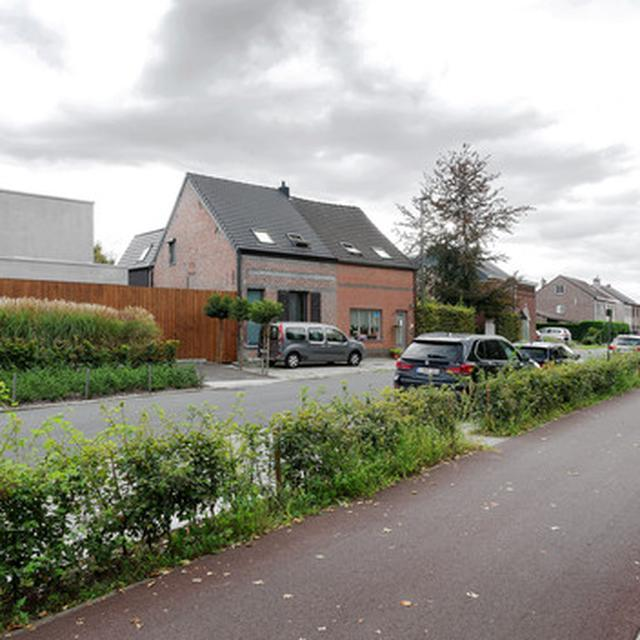building: (139, 140, 434, 360), (0, 176, 133, 302), (520, 245, 640, 336)
